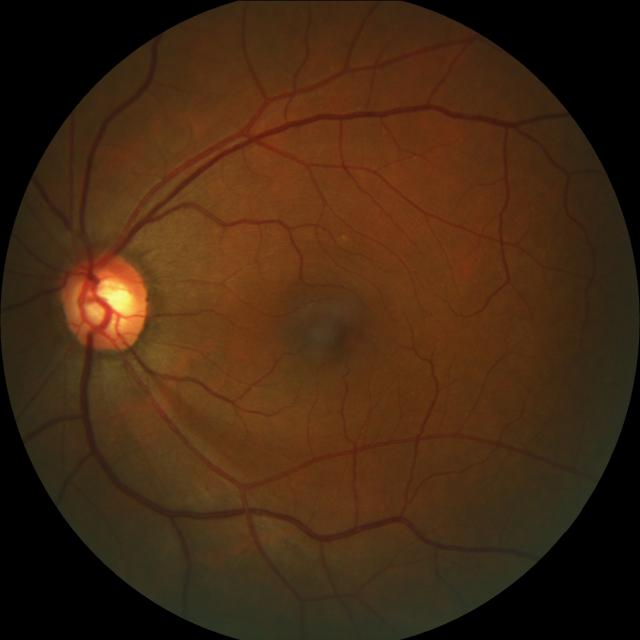OC: (73, 270, 133, 332)
OD: (60, 252, 146, 352)
